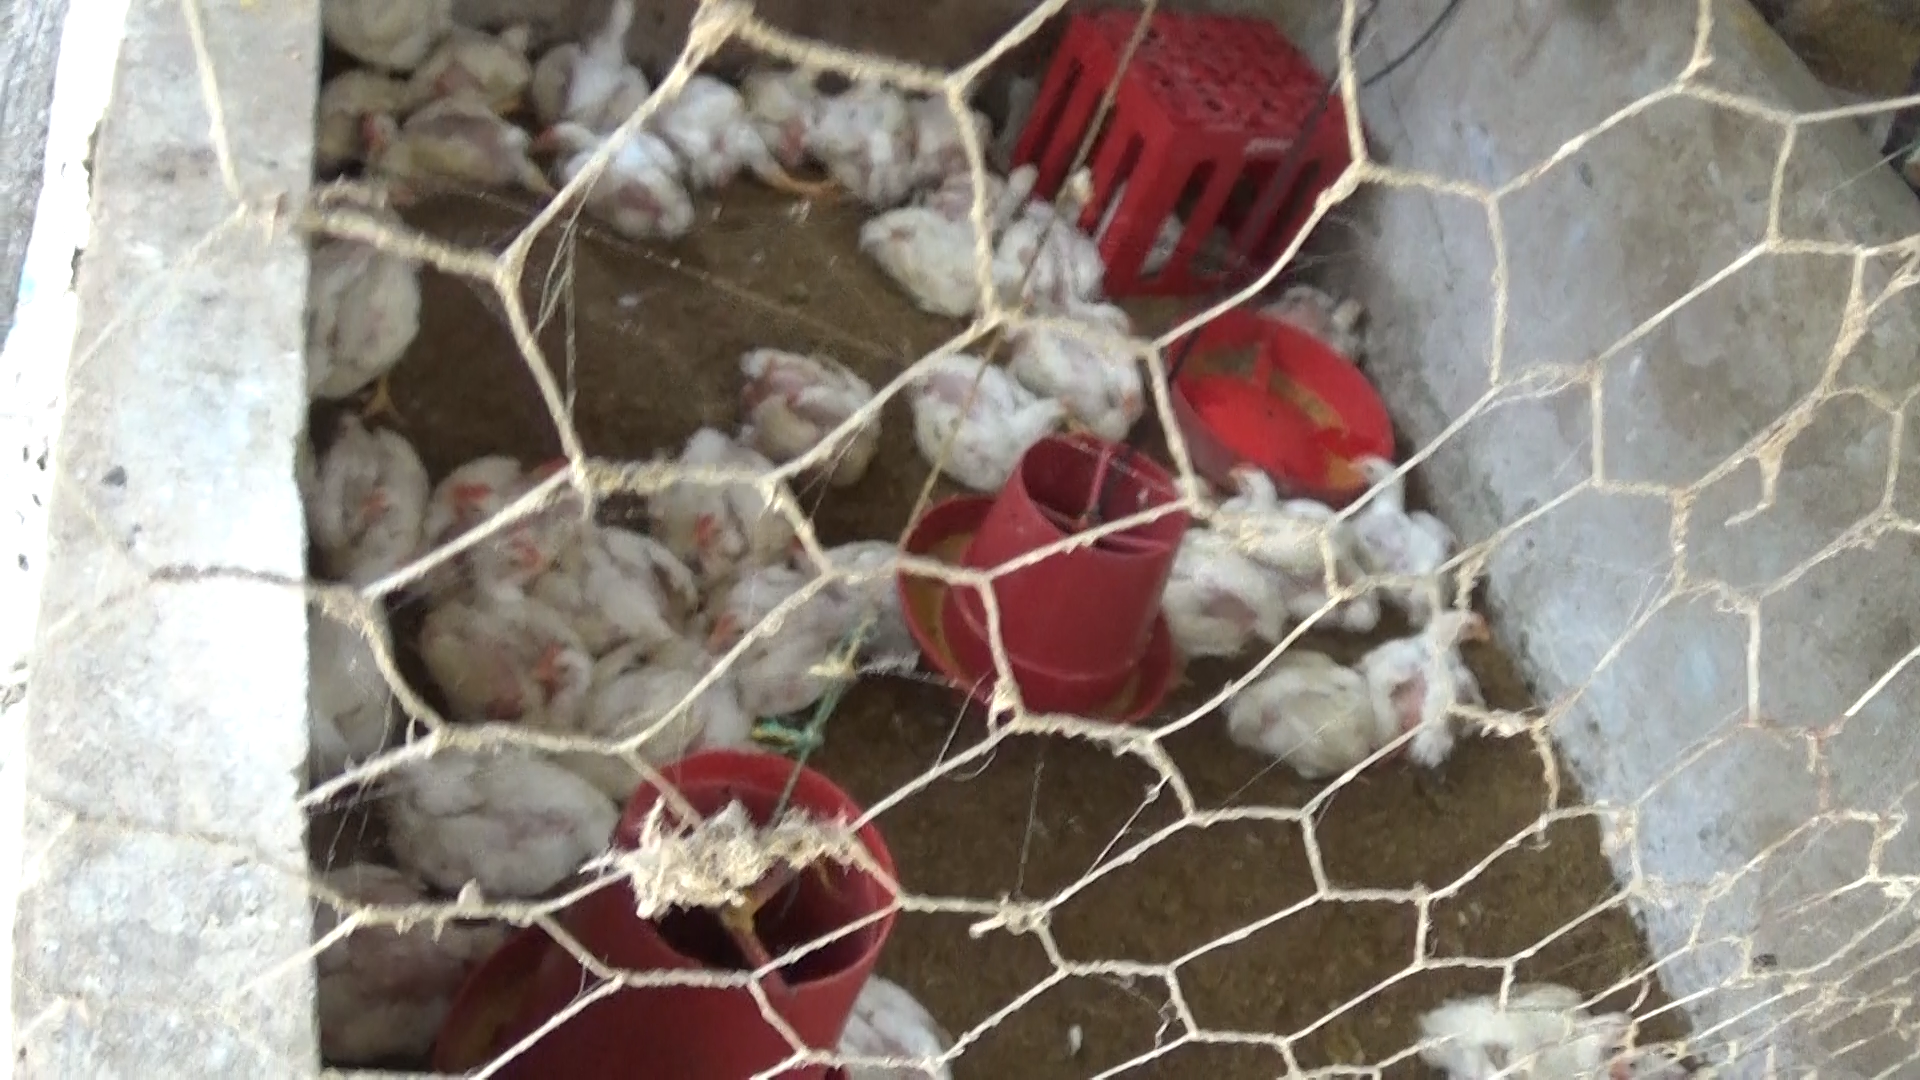Pollos: (384, 721, 626, 884), (526, 617, 720, 766), (535, 100, 716, 257), (727, 332, 909, 479), (650, 402, 806, 567), (1216, 458, 1381, 611), (316, 171, 413, 413), (688, 549, 855, 688), (431, 517, 574, 678), (669, 76, 827, 218), (1353, 440, 1482, 608), (1364, 611, 1515, 753), (1224, 654, 1389, 785), (299, 400, 426, 564), (359, 98, 550, 200), (538, 0, 680, 137), (915, 357, 1071, 472), (1021, 309, 1150, 434), (1002, 158, 1116, 298), (866, 183, 982, 313)
